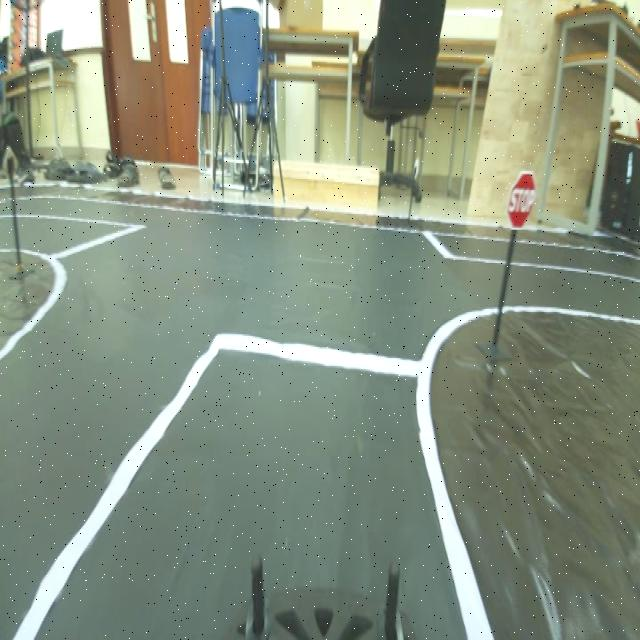stop: (507, 159, 537, 235)
